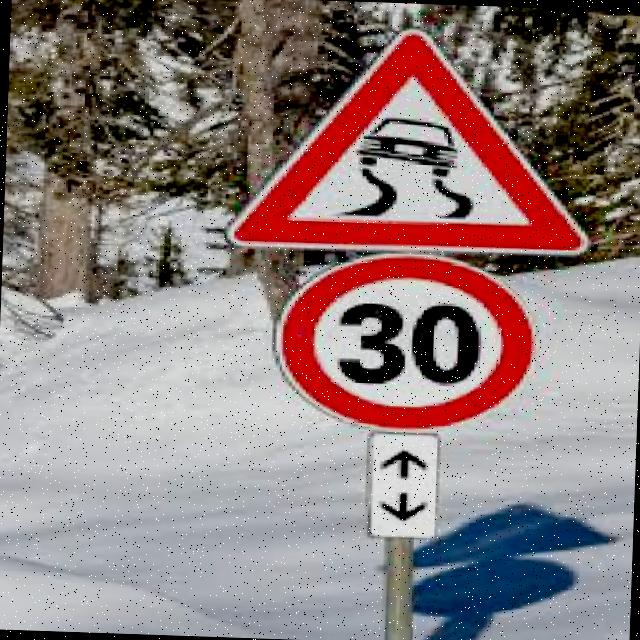Ograniczenie predkosci do 30: (276, 252, 534, 429)
